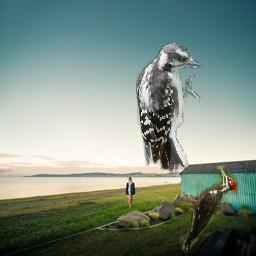Woodpecker: (136, 43, 203, 173), (179, 166, 238, 253)
